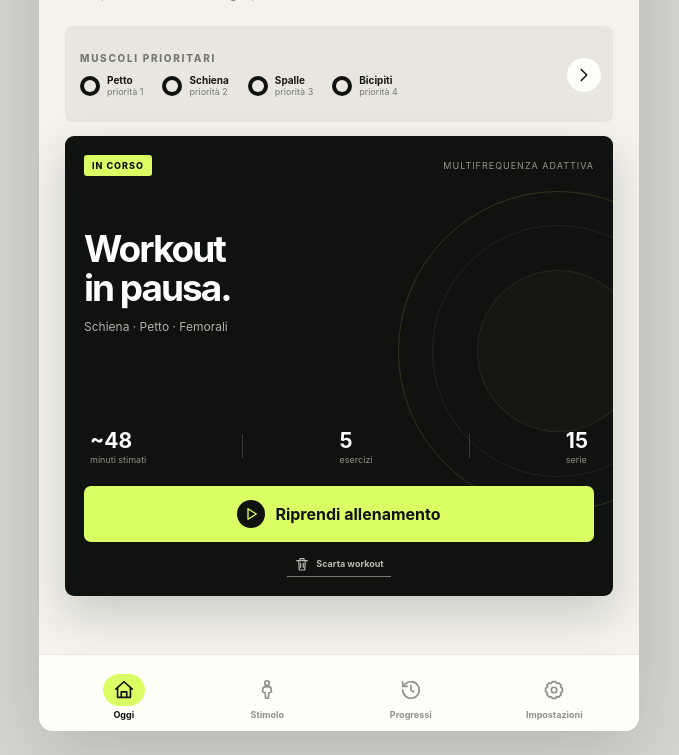
Test: critical workout lifecycle › a storage failure keeps the completed workout active and does not create a partial archive
(page scrolled)
Click the button "Riprendi allenamento": coordinates (339, 514) [84,486,594,542]
(page scrolled)
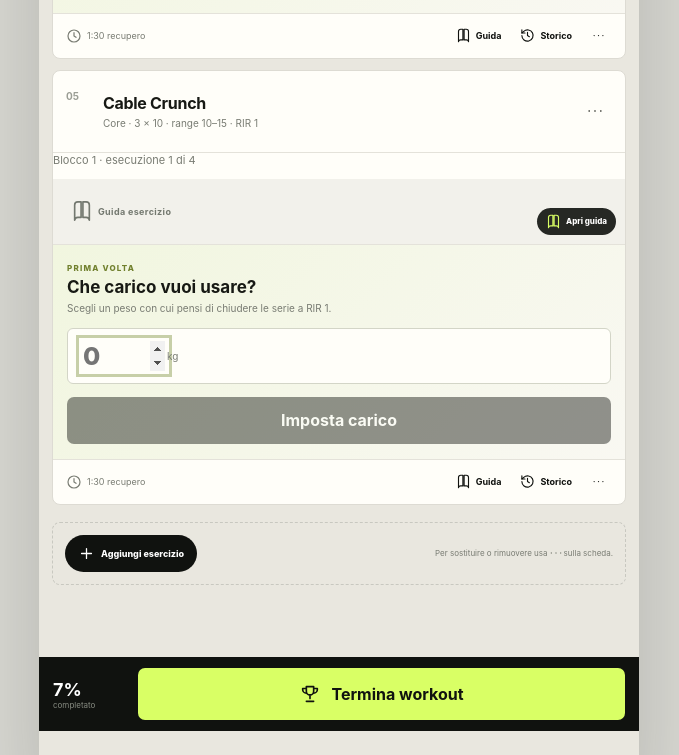
Click the button "Termina workout": coordinates (382, 694) [138,668,625,720]
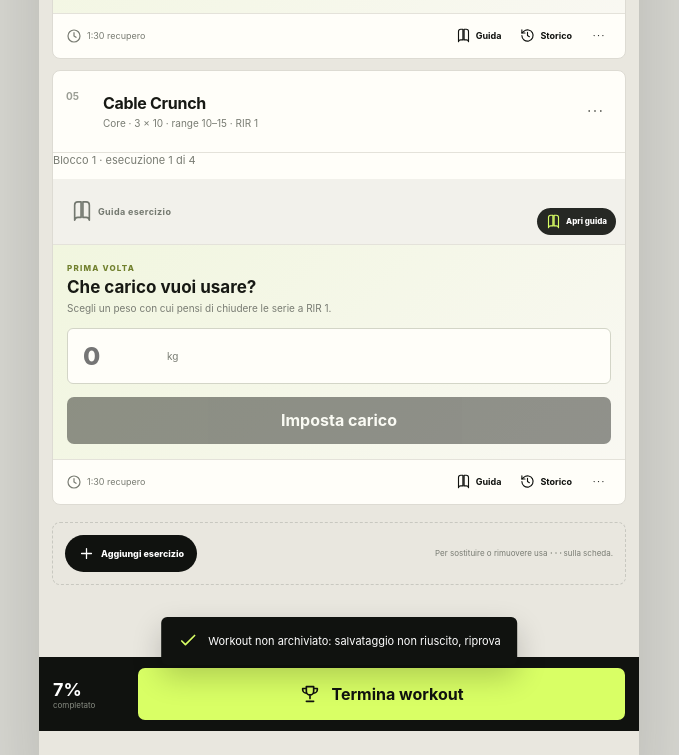
Result: the button "Termina workout" is shown at [138,668,625,720]
Result: the text "Workout non archiviato: salvataggio non riuscito, riprova" is shown at [208,634,501,648]
